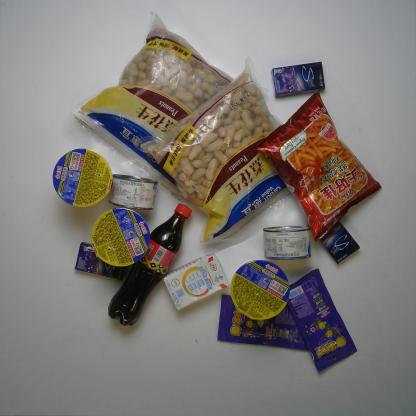Candy: (288, 267, 358, 374), (217, 294, 309, 351)
Canned Food: (108, 174, 159, 210), (262, 226, 312, 262)
Dried Food: (132, 55, 292, 255), (70, 8, 234, 192)
Drink: (107, 202, 192, 327)
Gum: (306, 218, 360, 264), (270, 60, 326, 98), (74, 241, 126, 281)
Instant Noodles: (52, 147, 114, 208), (90, 208, 152, 268), (230, 259, 290, 320)
Milk: (162, 253, 230, 311)
Puffed Food: (252, 92, 384, 242)
